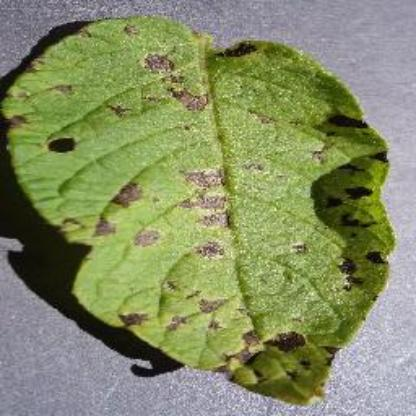Early-Blight: (1, 14, 397, 408)
